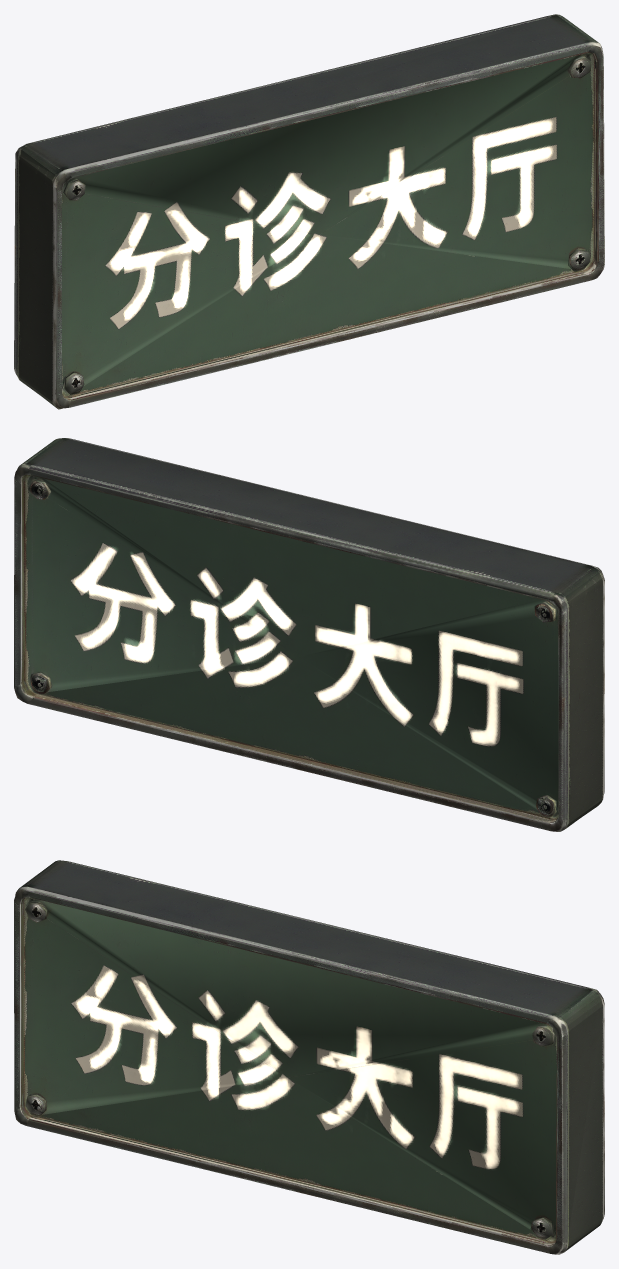
File: TriageHallSign.fbx
3 renders of one model, top to bottom at view 1: azimuth 30°, elevation 25°; view 2: azimuth 150°, elevation 25°; view 3: azimuth 330°, elevation 25°, orthographic.
Visible parts, largest first — view 1: mesh_node; view 2: mesh_node; view 3: mesh_node.
Boxes of the visible parts, x1,y1,x2,y2 form: mesh_node: (14,14,604,409); mesh_node: (14,438,604,831); mesh_node: (14,860,604,1254).
Bounding box in the file's own units: 100 × 41.5 × 13.38.
1 material, 1 textured.
